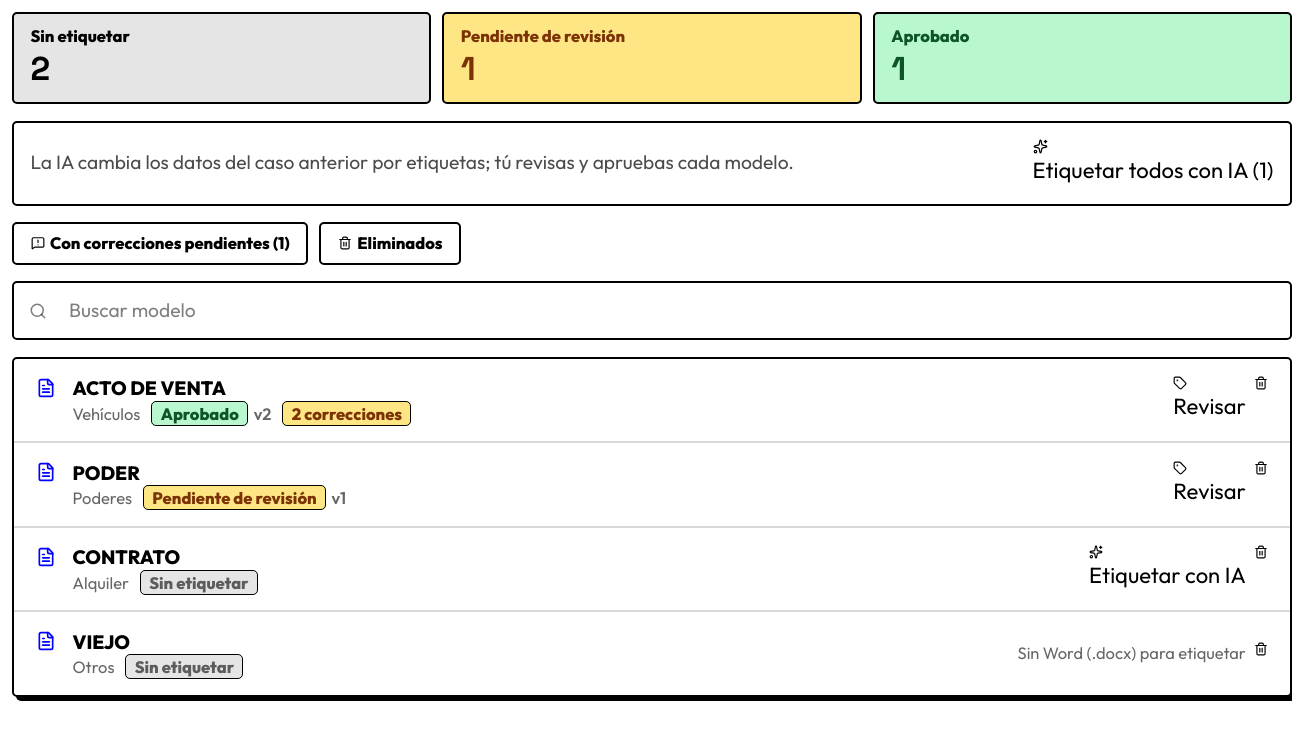
it: Revisión de etiquetas › shows pending corrections per model and filters by them
Check: the text "2 correcciones" is shown, box x1=282 y1=400 x2=411 y2=426
Click the button "Con correcciones pendientes (1)" at x=160, y=243, box x1=12 y1=222 x2=308 y2=264
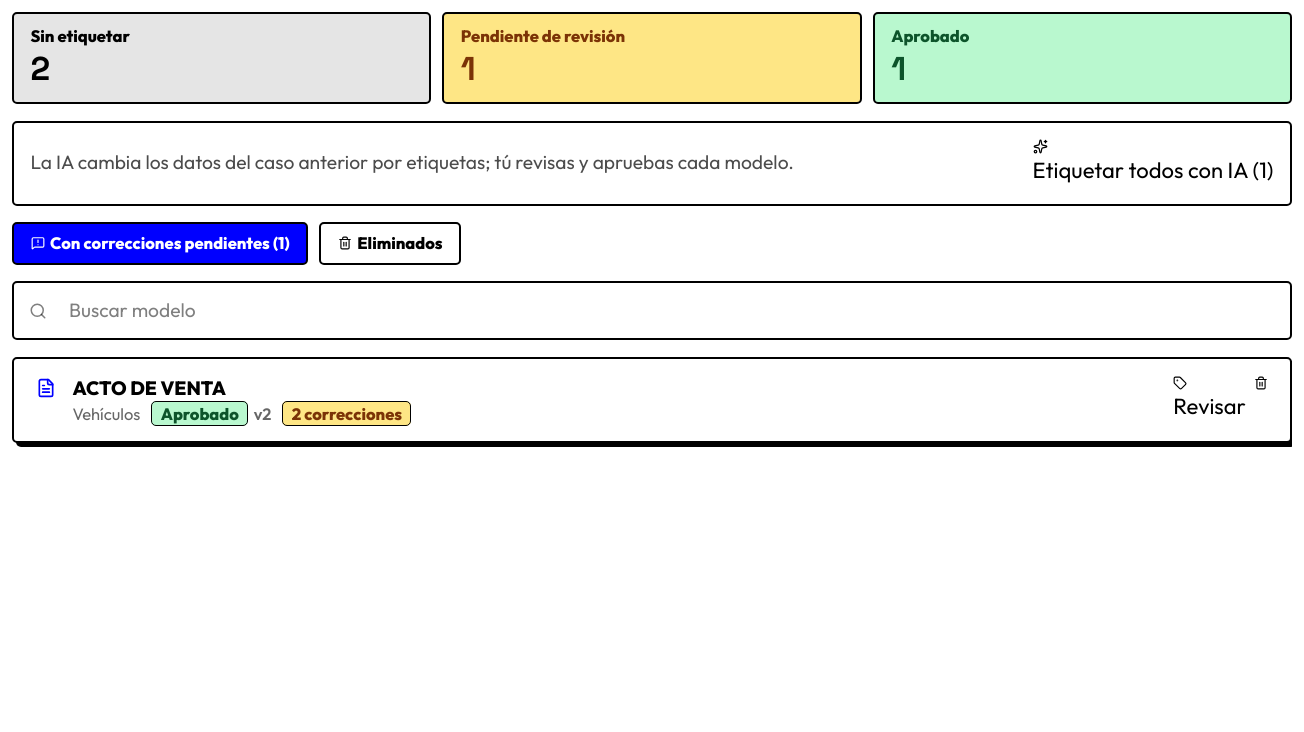
Check: the text "ACTO DE VENTA" is shown, box x1=72 y1=376 x2=226 y2=400
Check: the number of list items is 1, box x1=14 y1=358 x2=1290 y2=441
